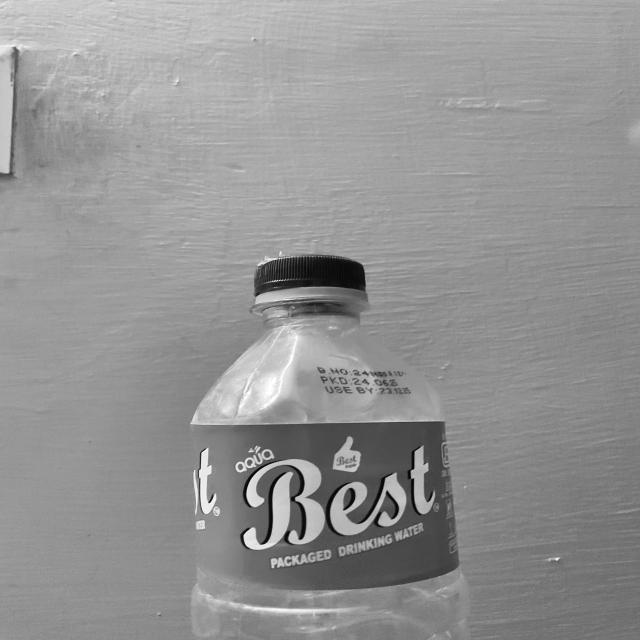Good-cap-Df0S: (247, 250, 373, 310)
